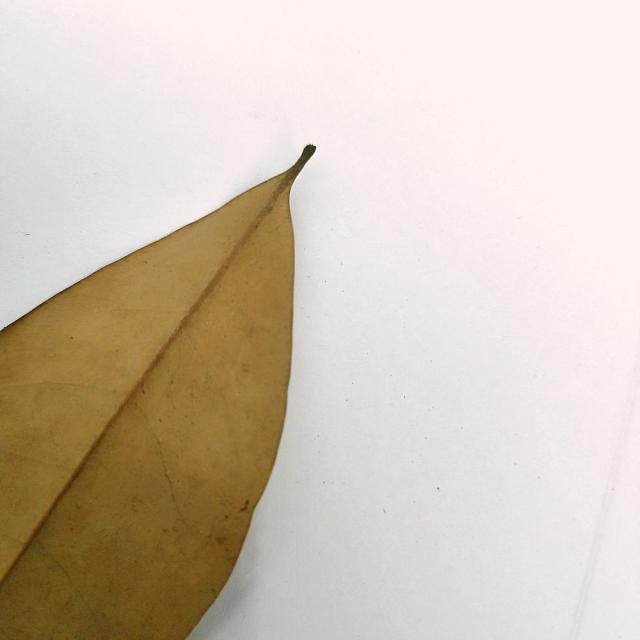Dry_Leaf-Lychee: (0, 146, 315, 639)
